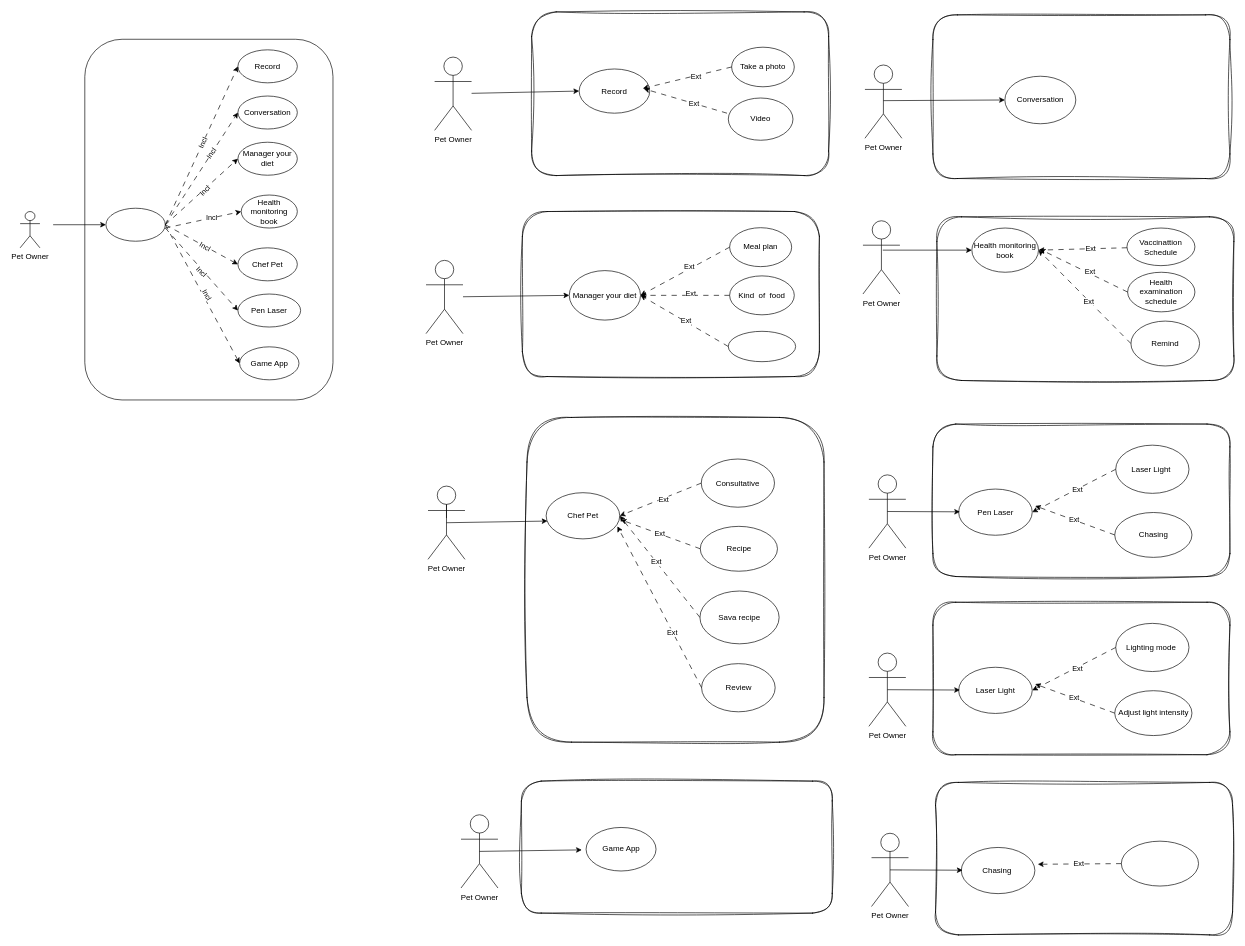
The diagram is 1245 pixels wide and 946 high, and some of its shapes have lost their labels. The shapes that lost their labels are listed below. From the top down, each one's centre as x and y in pixels, then its label:
the point at 135,224: LOGIN
the point at 762,346: Meal
the point at 1160,863: Stimulates hunting
